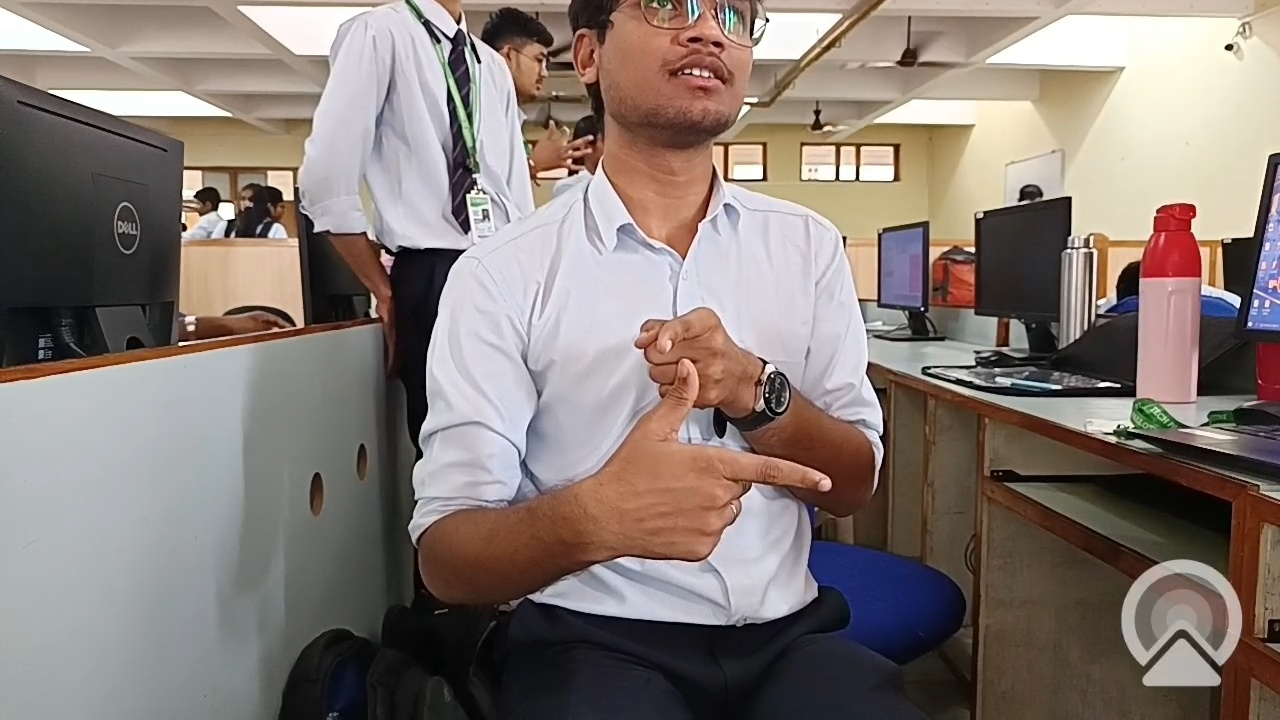J: (563, 270, 873, 628)
